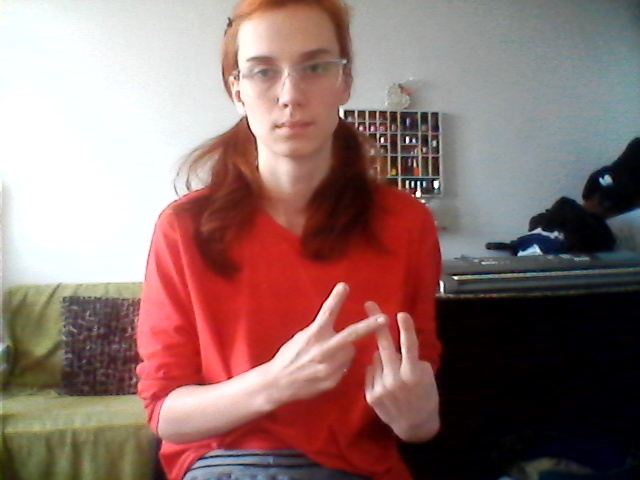w: (253, 250, 474, 415)
